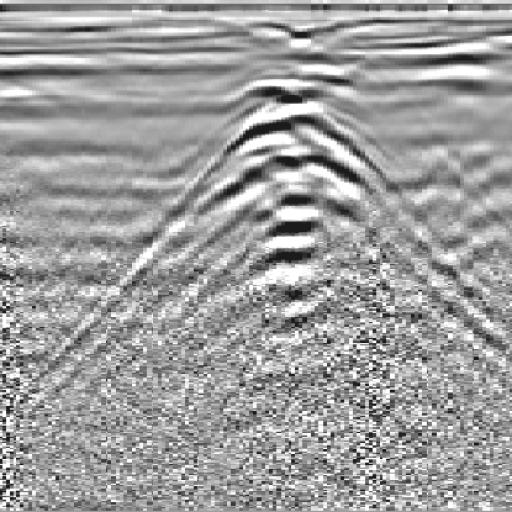metalic: (144, 55, 444, 332)
